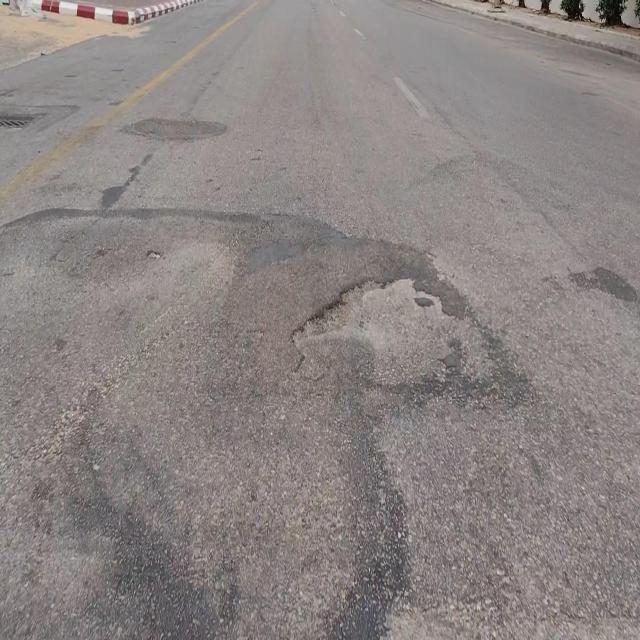Pothole: (288, 272, 496, 390)
